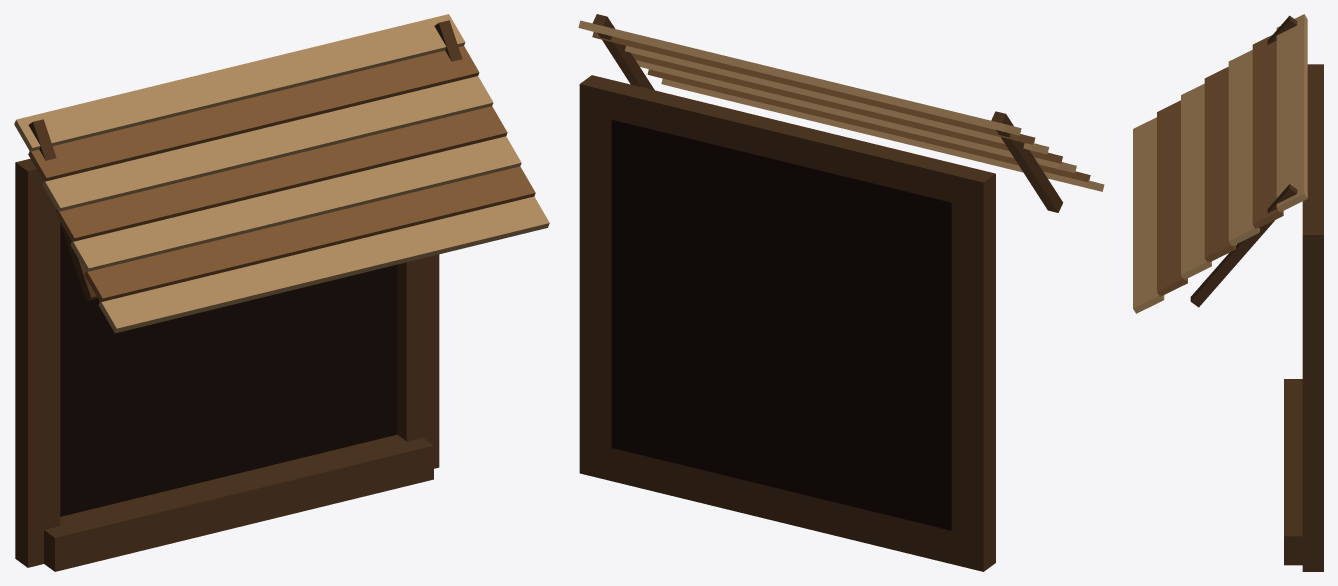
The model's file is dc_awning_window.glb.
The picture shows the model from 3 angles, left to right: view 1: azimuth 30°, elevation 25°; view 2: azimuth 150°, elevation 25°; view 3: azimuth 270°, elevation 25°; orthographic projection. The views are drawn at different scales.
Visible parts, largest first — view 1: dc_awning_window; view 2: dc_awning_window; view 3: dc_awning_window.
Part boxes in pixels (bbox=[...]): dc_awning_window: bbox=[14, 14, 549, 571]; dc_awning_window: bbox=[578, 14, 1104, 571]; dc_awning_window: bbox=[1133, 14, 1323, 571].
Bounding box in the file's own units: 1.6 × 1.6 × 0.7184.
